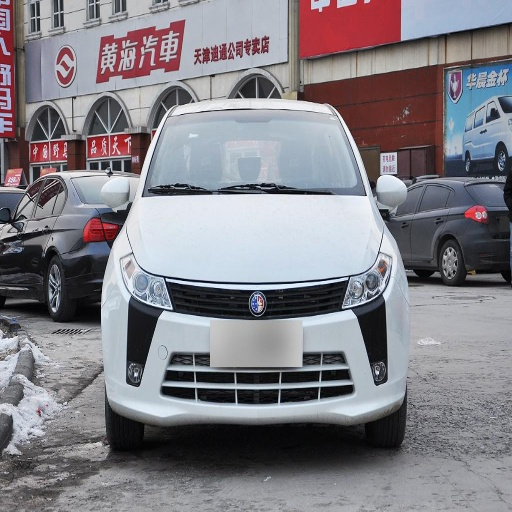front_bumper: (109, 276, 404, 425)
front_right_light: (120, 259, 172, 308)
hood: (130, 195, 382, 282)
